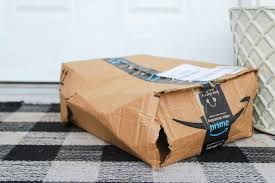damaged package: (155, 70, 253, 97), (152, 93, 171, 169), (59, 74, 76, 126)
